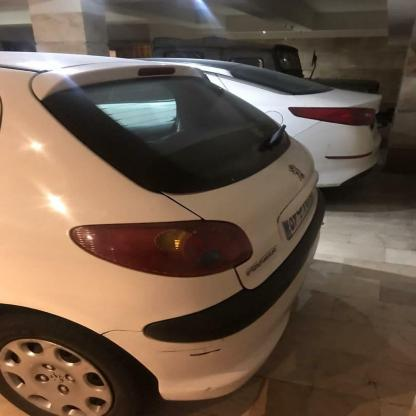Car: (0, 44, 316, 416), (177, 58, 379, 176)
